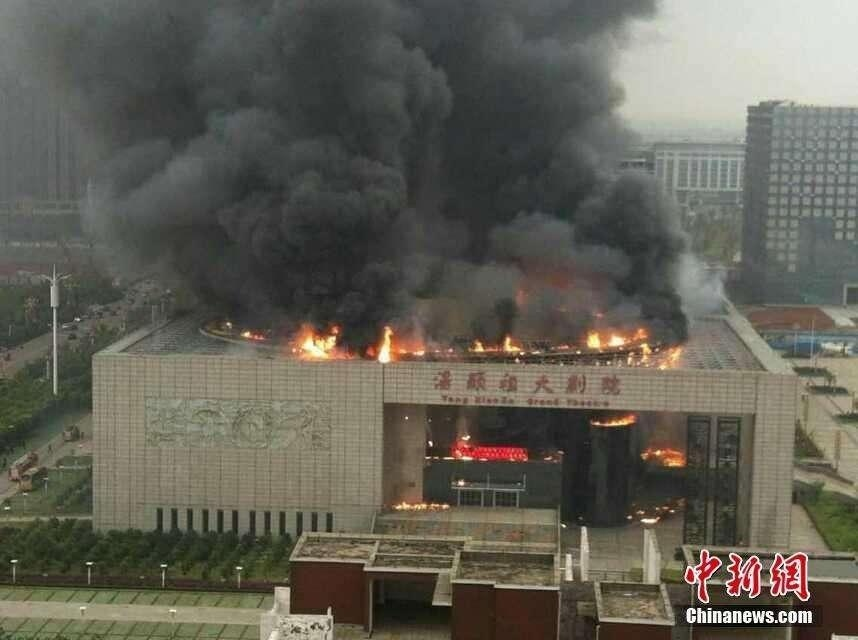fire: (580, 324, 682, 363), (293, 320, 342, 359), (477, 334, 523, 357), (392, 495, 450, 512), (369, 326, 397, 361), (644, 445, 685, 467), (592, 412, 636, 427), (500, 333, 523, 355), (241, 326, 265, 341)
